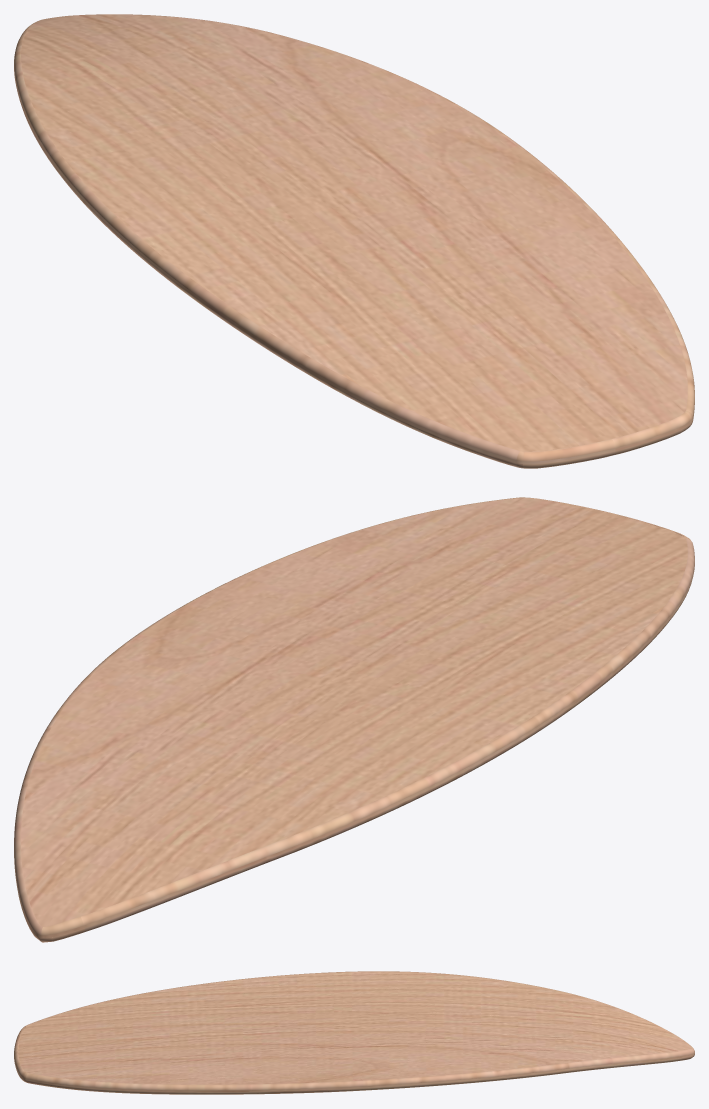
Rendered from board.gltf.
3 renders of one model, top to bottom at view 1: azimuth 30°, elevation 25°; view 2: azimuth 150°, elevation 25°; view 3: azimuth 270°, elevation 25°, orthographic. The views are drawn at different scales.
Parts seen in each view (by area): view 1: board; view 2: board; view 3: board.
Part boxes in pixels (x1,y1,x2,y2): board: (14,14,694,468); board: (14,497,694,942); board: (14,971,694,1094).
Size of the model in its own units: 29.86 by 4.34 by 76.02.
1 material, 1 textured.
